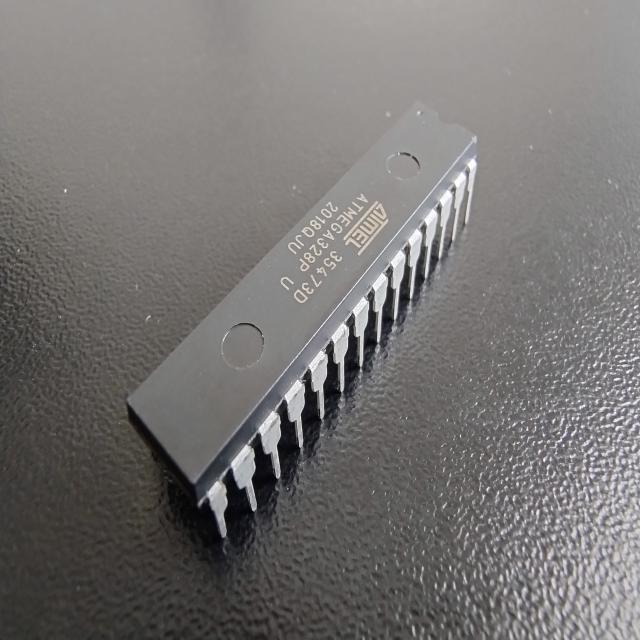atmega: (124, 98, 480, 541)
